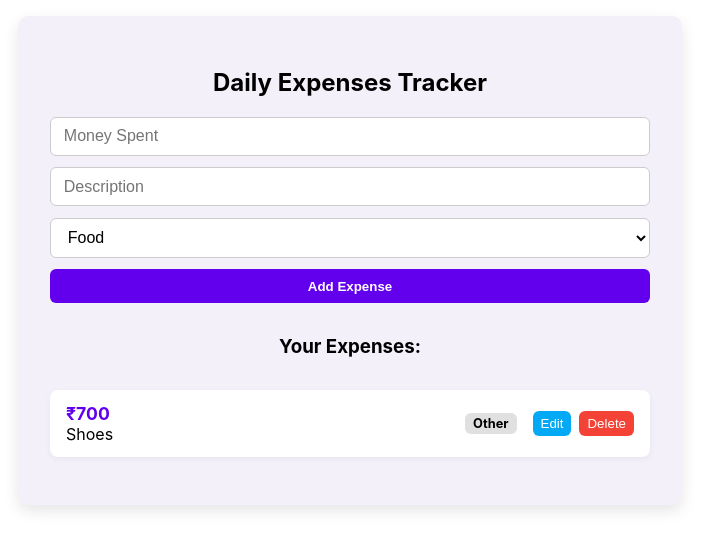
Scenario: Expenses Component (API interaction tests) › shows cancel button when editing
What coordinates should you click on to do the following:
click the button "Edit"
I would click on:
 (552, 423)
Its box is [532,411,572,436].
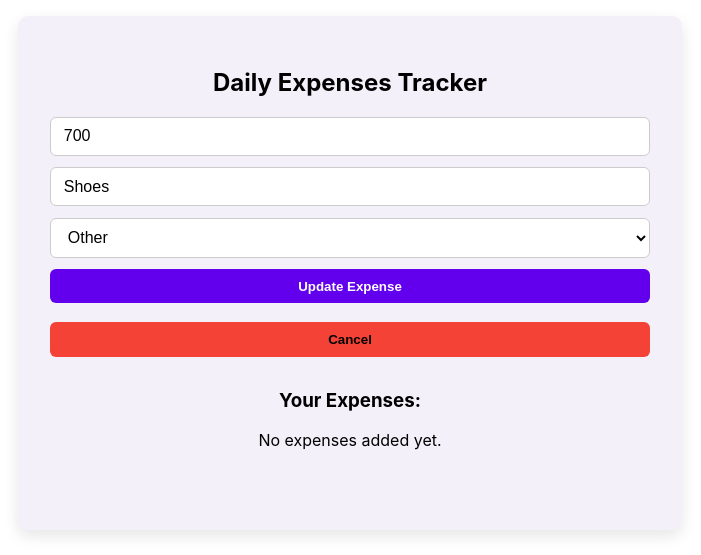
Expected: the button "Cancel" is shown, [50,322,650,356]
